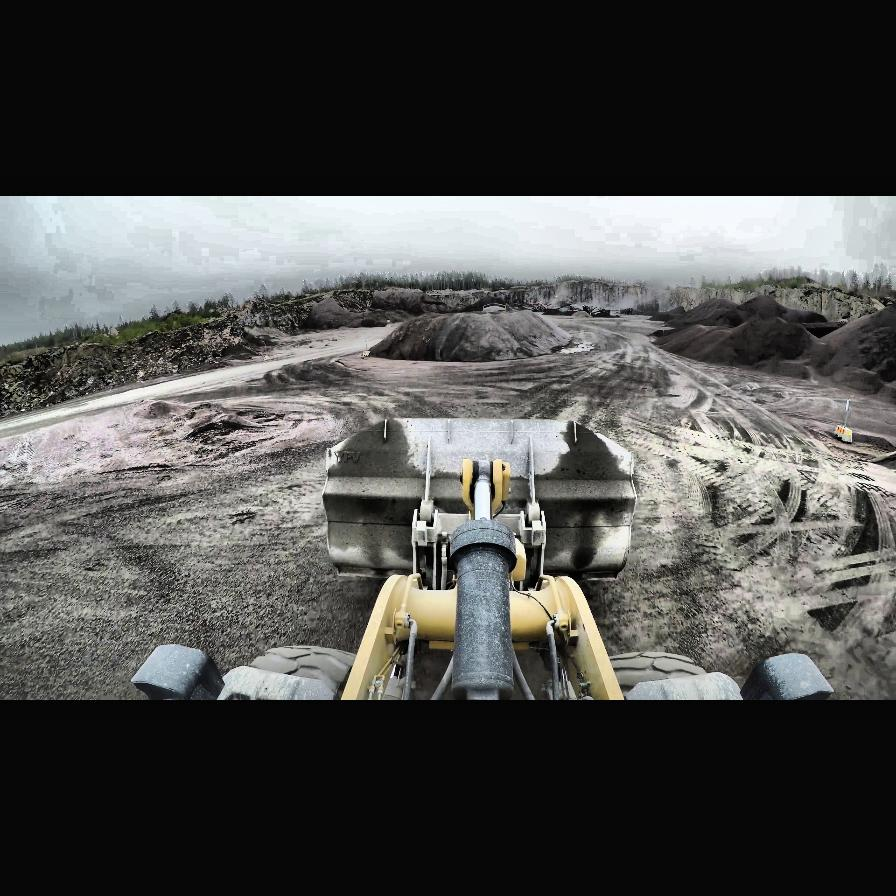anchor: (459, 458, 507, 520)
pile of gravel: (652, 296, 834, 376), (364, 311, 568, 365), (806, 300, 896, 400), (302, 293, 402, 330), (653, 320, 743, 360), (721, 294, 825, 326), (659, 296, 746, 328), (362, 288, 444, 318), (460, 294, 512, 312), (666, 306, 686, 314)
